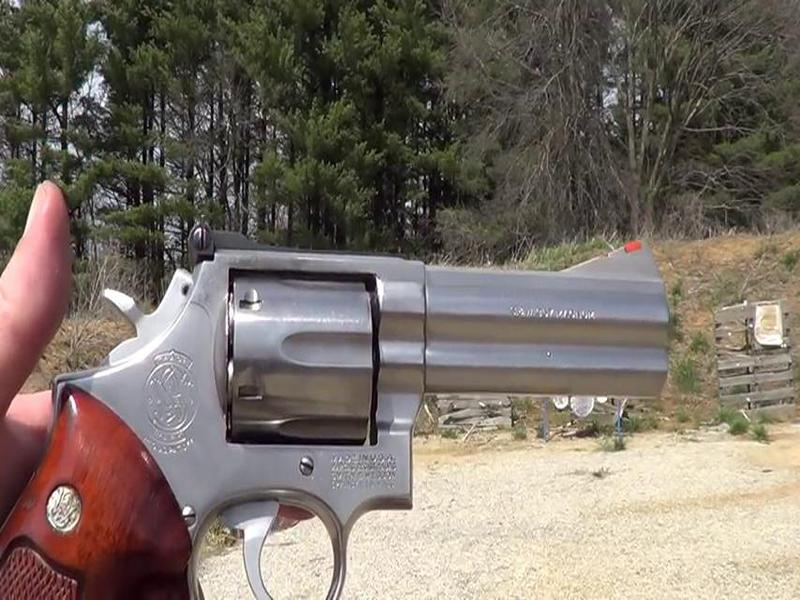Revolver: (30, 205, 677, 596)
